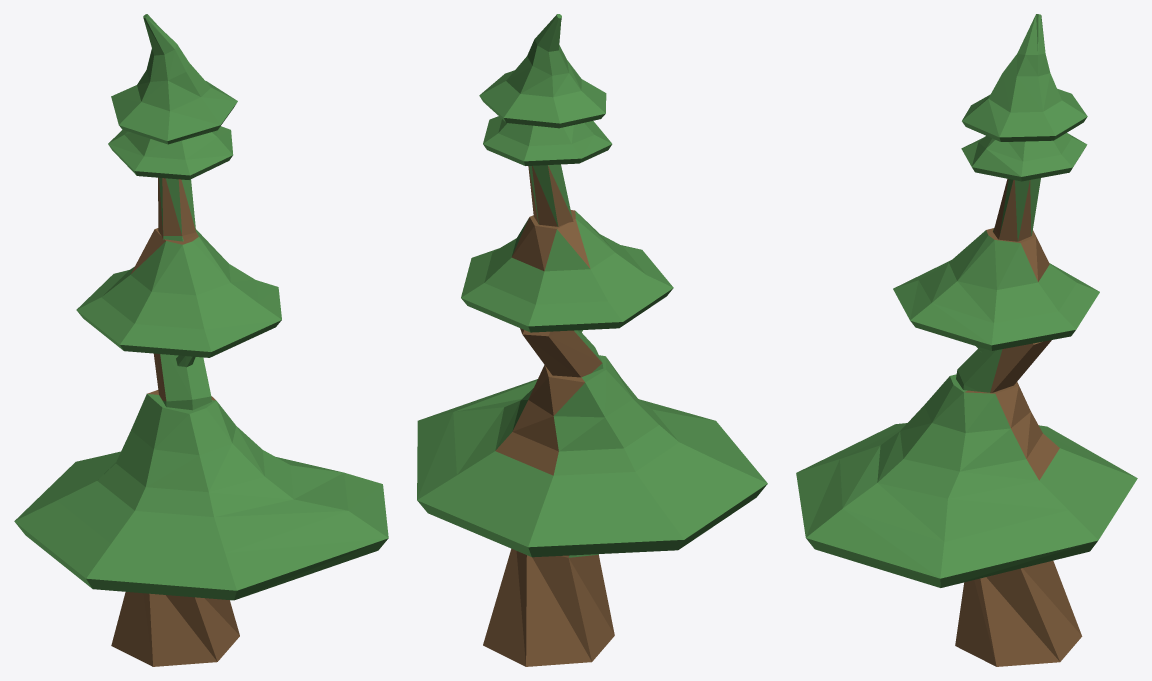
Rendered from tree3d-115.glb.
3 views of the same model, side by side, from view 1: azimuth 30°, elevation 25°; view 2: azimuth 150°, elevation 25°; view 3: azimuth 270°, elevation 25° (orthographic). The views are drawn at different scales.
Parts seen in each view (by area): view 1: tree3d-115; view 2: tree3d-115; view 3: tree3d-115.
Boxes of the visible parts, <box> form: tree3d-115: <box>14,14,388,666</box>; tree3d-115: <box>417,14,767,666</box>; tree3d-115: <box>796,14,1137,666</box>.
Bounding box in the file's own units: 0.536 × 1 × 0.501.
